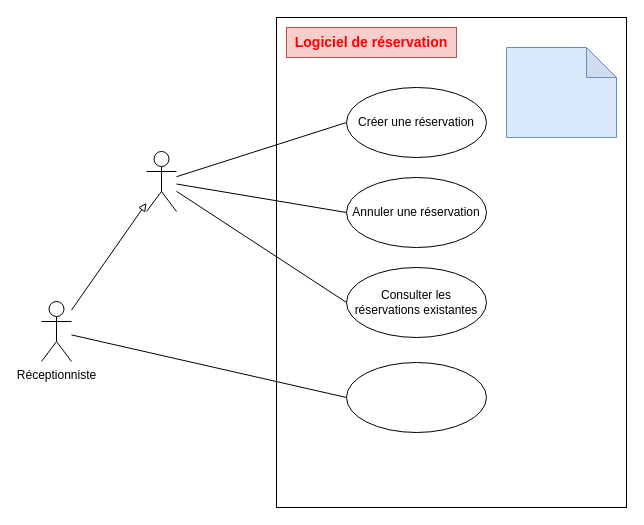
Image size: 644x525. Some labels were removed from this diagram. The shapes that lost their labels are listed below. From the top down, each one's box as (x1, y1, x2, y2) in pixels, then its label:
(506, 46, 616, 138): Système soumis à l'authentification
(146, 150, 176, 212): Personnel
(346, 362, 486, 432): Visualiser les disponibilités des tables
